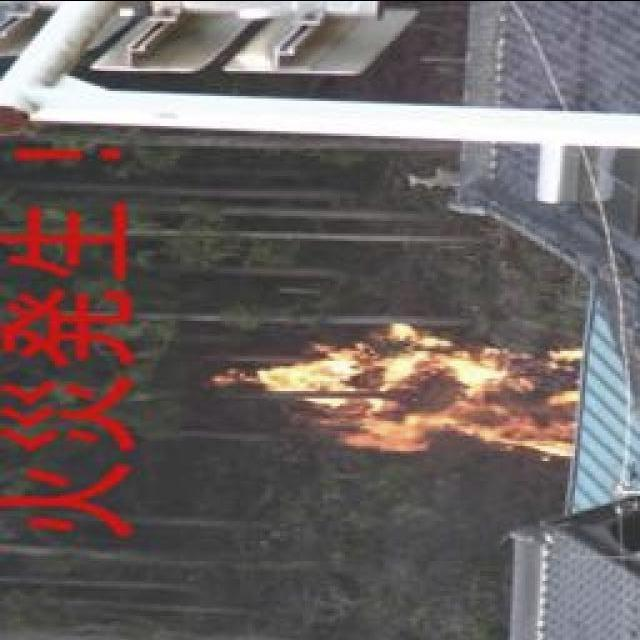Fire: (212, 322, 586, 456)
